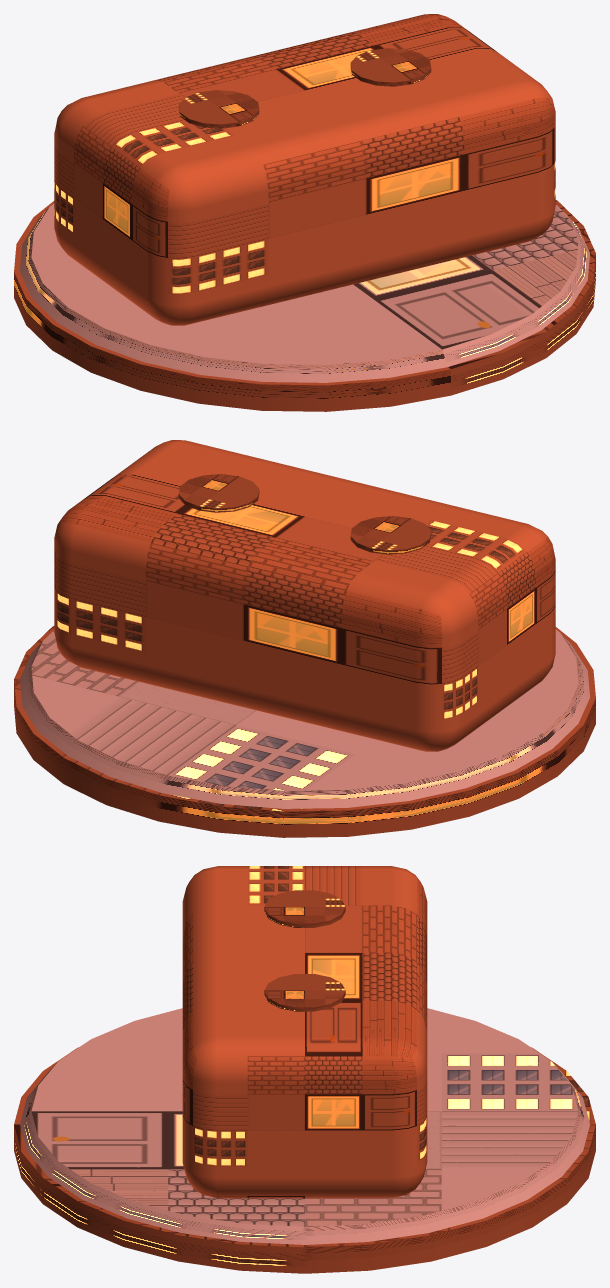
File: tier-01-brick.glb
3 renders of one model, top to bottom at view 1: azimuth 30°, elevation 25°; view 2: azimuth 150°, elevation 25°; view 3: azimuth 270°, elevation 25°, orthographic.
Visible parts, largest first — view 1: toon; view 2: toon; view 3: toon.
Part boxes in pixels (x1,y1,x2,y2): toon: (14, 14, 595, 411); toon: (14, 440, 595, 837); toon: (14, 866, 595, 1273).
Size of the model in its own units: 1 by 0.383 by 1.
Materials: 1 (1 with a texture image).
